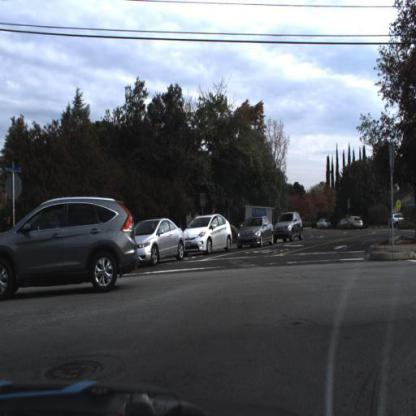car: (1, 196, 139, 305), (131, 216, 187, 266), (184, 211, 236, 262), (234, 217, 275, 250), (274, 209, 308, 246), (389, 209, 410, 234), (334, 217, 353, 234), (348, 215, 366, 232), (317, 217, 334, 233)
